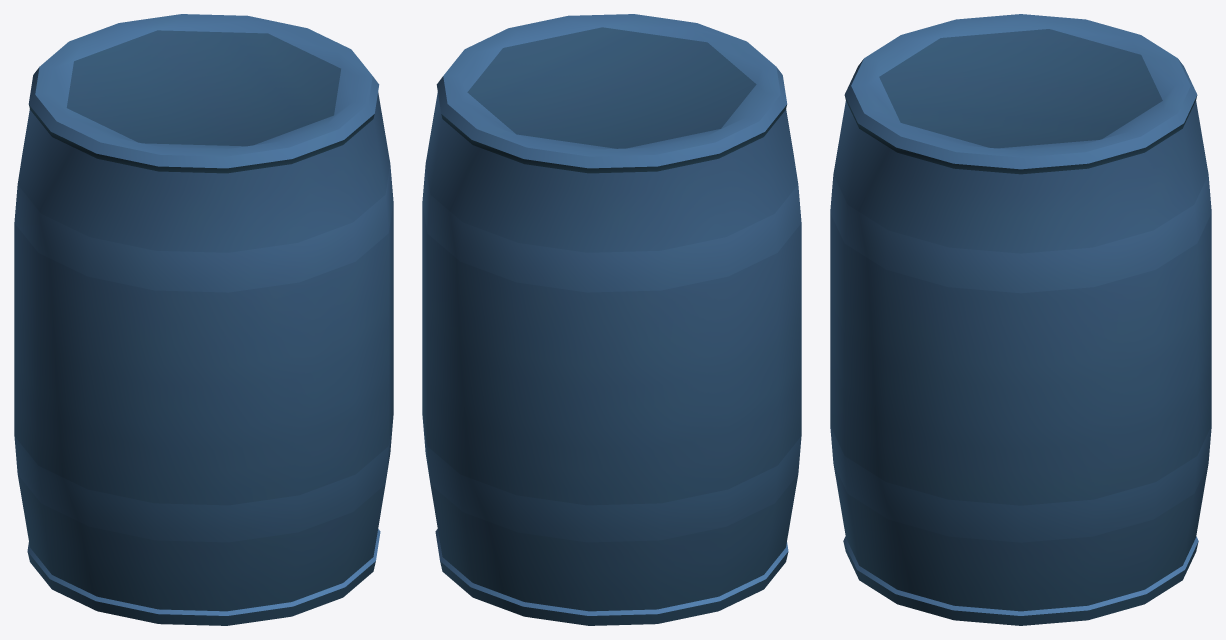
Rendered from SM_PlasticBarrel_01.fbx.
3 renders of one model, left to right at view 1: azimuth 30°, elevation 25°; view 2: azimuth 150°, elevation 25°; view 3: azimuth 270°, elevation 25°, orthographic.
Visible parts, largest first — view 1: SM_PlasticBarrel_01; view 2: SM_PlasticBarrel_01; view 3: SM_PlasticBarrel_01.
Boxes of the visible parts, x1,y1,x2,y2 form: SM_PlasticBarrel_01: [14, 14, 393, 625]; SM_PlasticBarrel_01: [422, 14, 801, 625]; SM_PlasticBarrel_01: [830, 14, 1211, 625].
Size of the model in its own units: 0.5936 by 0.8012 by 0.5936.
